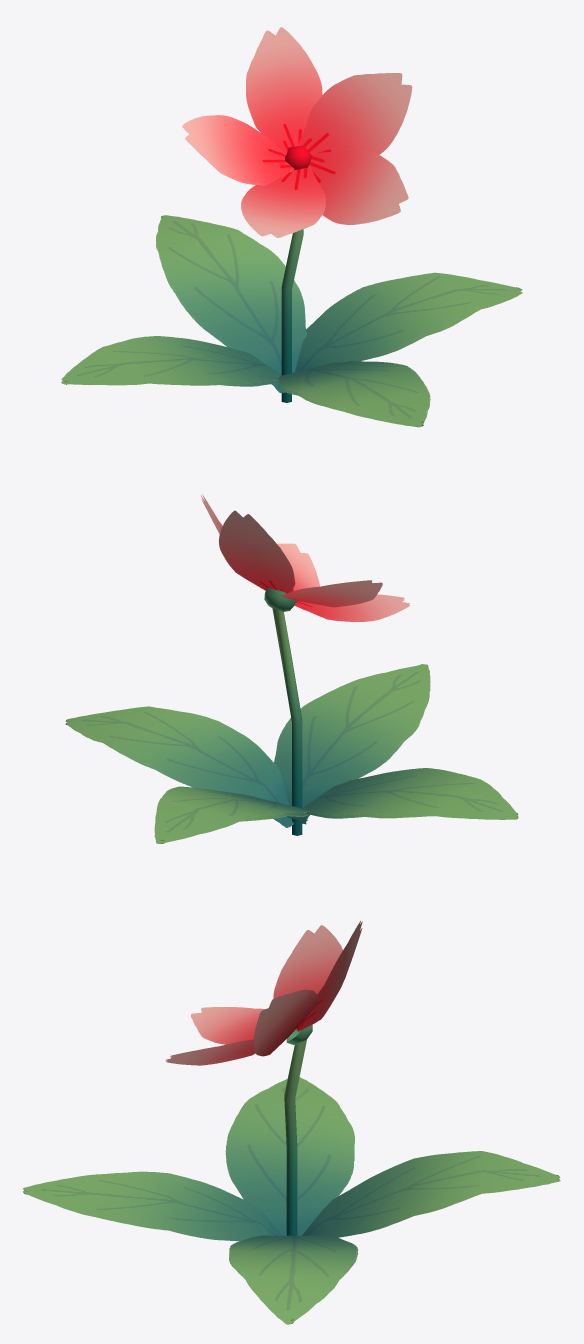
The model's file is hana_red.fbx.
The picture shows the model from 3 angles, top to bottom: view 1: azimuth 30°, elevation 25°; view 2: azimuth 150°, elevation 25°; view 3: azimuth 270°, elevation 25°; orthographic projection. The views are drawn at different scales.
Parts seen in each view (by area): view 1: pPlane46, pPlane39, pPlane47, pPlane48, pPlane42, pPlane41, pPlane43, pPlane45, pPlane44, pCylinder18; view 2: pPlane48, pPlane39, pPlane47, pPlane46, pPlane41, pCylinder18, pPlane45, pPlane44, pPlane43, pSphere2; view 3: pPlane47, pPlane48, pPlane46, pPlane39, pPlane45, pPlane42, pCylinder18, pPlane44, pPlane41, pPlane43.
Boxes of the visible parts, left/top/right/bottom form: pPlane46: left=156, top=215, right=306, bottom=393; pPlane39: left=295, top=272, right=522, bottom=372; pPlane47: left=61, top=336, right=280, bottom=386; pPlane48: left=278, top=361, right=430, bottom=427; pPlane42: left=298, top=73, right=412, bottom=154; pPlane41: left=246, top=27, right=322, bottom=155; pPlane43: left=309, top=149, right=408, bottom=224; pPlane45: left=182, top=115, right=294, bottom=185; pPlane44: left=241, top=166, right=325, bottom=237; pCylinder18: left=281, top=229, right=303, bottom=402; pPlane48: left=274, top=664, right=430, bottom=808; pPlane39: left=65, top=706, right=293, bottom=827; pPlane47: left=290, top=768, right=518, bottom=819; pPlane46: left=154, top=786, right=309, bottom=843; pPlane41: left=219, top=510, right=295, bottom=593; pCylinder18: left=272, top=608, right=302, bottom=835; pPlane45: left=278, top=580, right=382, bottom=607; pPlane44: left=294, top=594, right=409, bottom=621; pPlane43: left=277, top=543, right=319, bottom=610; pSphere2: left=264, top=588, right=296, bottom=611; pPlane47: left=225, top=1077, right=354, bottom=1235; pPlane48: left=23, top=1171, right=281, bottom=1241; pPlane46: left=302, top=1151, right=560, bottom=1237; pPlane39: left=229, top=1235, right=357, bottom=1324; pPlane45: left=273, top=925, right=342, bottom=998; pPlane42: left=253, top=989, right=318, bottom=1056; pCylinder18: left=284, top=1035, right=306, bottom=1235; pPlane44: left=191, top=1007, right=265, bottom=1044; pPlane41: left=296, top=921, right=362, bottom=1031; pPlane43: left=165, top=1039, right=255, bottom=1065.
Bounding box in the file's own units: 3.19 × 2.27 × 3.19.
